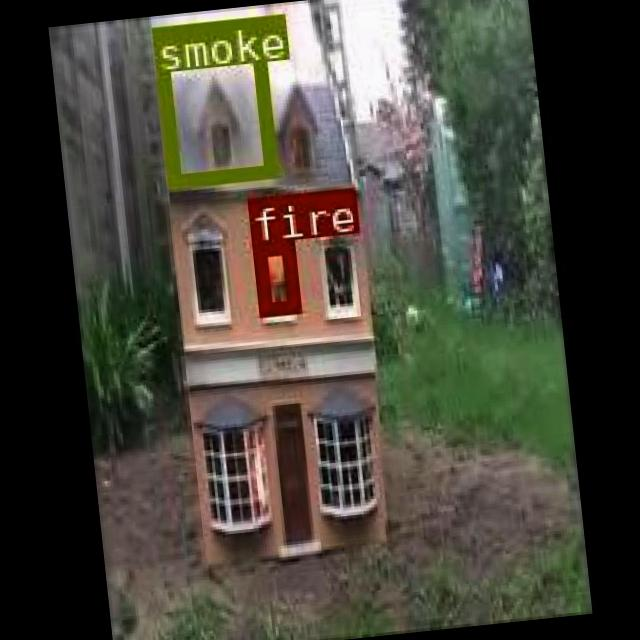fire: (250, 238, 298, 312)
smoke: (150, 16, 274, 186)
